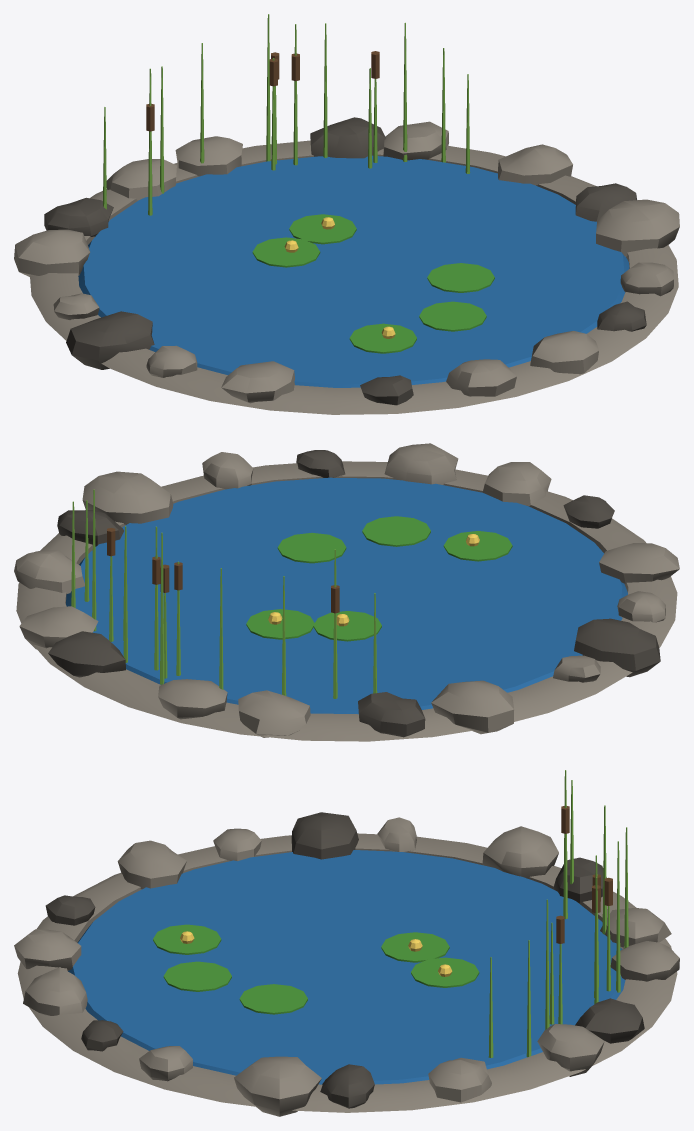
Rendered from teich.obj.
3 views of the same model, one above another, from view 1: azimuth 30°, elevation 25°; view 2: azimuth 150°, elevation 25°; view 3: azimuth 270°, elevation 25° (orthographic).
Visible parts, largest first — view 1: teich_Koerper; view 2: teich_Koerper; view 3: teich_Koerper.
Part boxes in pixels (<box>): teich_Koerper: <box>14,14,679,414</box>; teich_Koerper: <box>14,443,679,741</box>; teich_Koerper: <box>14,770,679,1116</box>.
Size of the model in its own units: 5.62 by 1.54 by 5.45.
